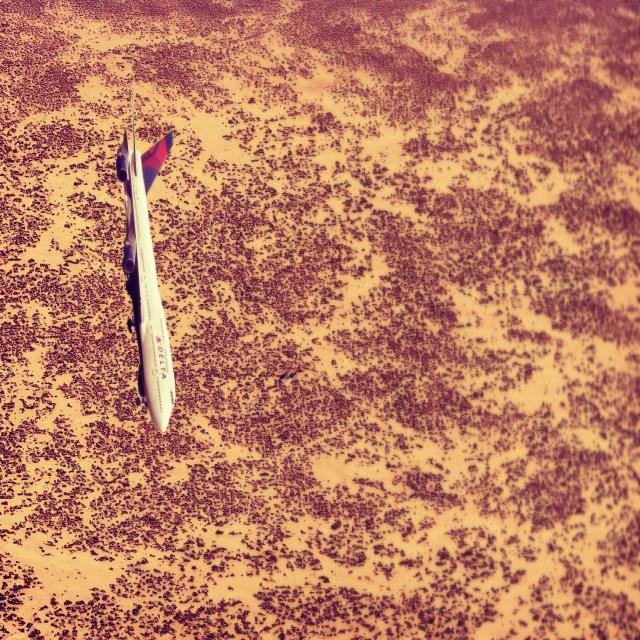airplane: (115, 94, 176, 435)
